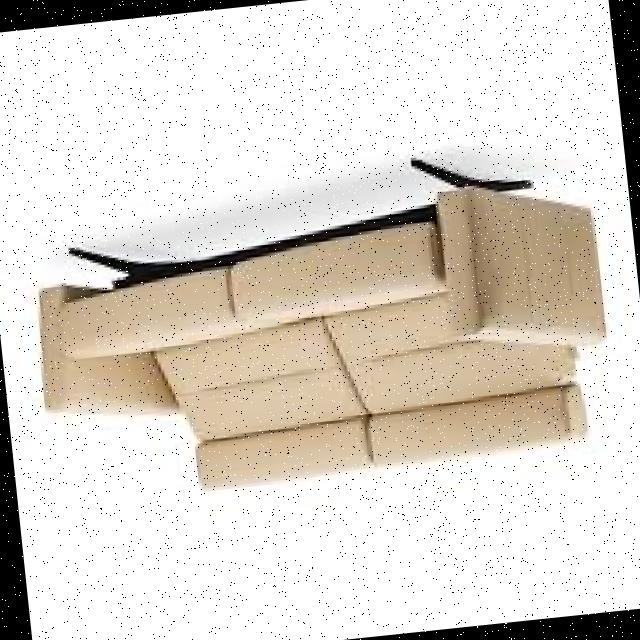Sofa: (0, 115, 637, 544)
